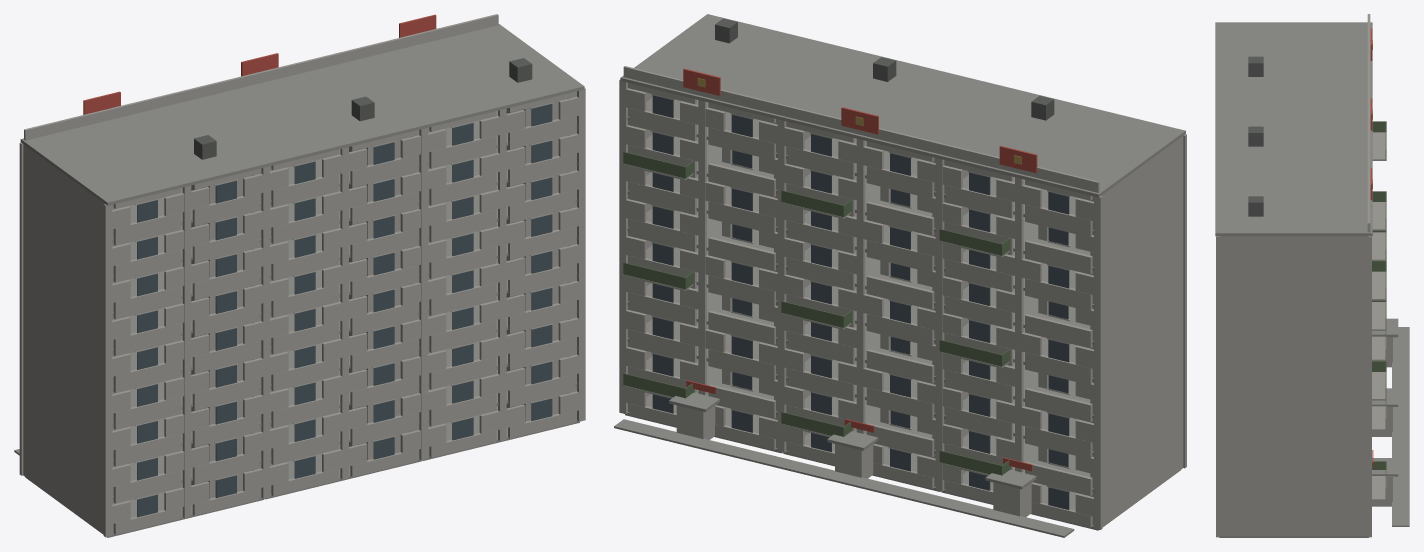
The model's file is b_brezh9.glb.
3 views of the same model, side by side, from view 1: azimuth 30°, elevation 25°; view 2: azimuth 150°, elevation 25°; view 3: azimuth 270°, elevation 25° (orthographic). The views are drawn at different scales.
Parts seen in each view (by area): view 1: roof_s0, roof_s2, roof_s1, wall_s0_f3_r0, wall_s0_f1_r0, wall_s0_f2_r0, wall_s0_f7_r0, wall_s0_f4_r0, wall_s0_f6_r0, wall_s0_f0_r0, wall_s0_f5_r0, wall_s0_f8_r0 (+59 smaller); view 2: roof_s0, roof_s2, roof_s1, details, wall_s0_f4_l1, wall_s0_f7_l1, wall_s1_f7_l1, wall_s1_f4_l1, wall_s2_f7_l1, wall_s2_f4_l1, wall_s0_f1_l1, wall_s2_f1_l1 (+68 smaller); view 3: roof_s2, roof_s0, roof_s1, details, wall_s2_f2_e, wall_s2_f5_e, wall_s2_f7_e, wall_s2_f0_e, wall_s2_f1_e, wall_s2_f3_e, wall_s2_f4_e, wall_s2_f6_e (+11 smaller).
Boxes of the visible parts, bbox=[...] form: roof_s0: bbox=[20, 91, 268, 205]; roof_s2: bbox=[339, 14, 584, 127]; roof_s1: bbox=[182, 52, 426, 167]; wall_s0_f3_r0: bbox=[103, 369, 191, 426]; wall_s0_f1_r0: bbox=[103, 443, 191, 500]; wall_s0_f2_r0: bbox=[103, 406, 191, 463]; wall_s0_f7_r0: bbox=[103, 222, 191, 279]; wall_s0_f4_r0: bbox=[103, 332, 191, 389]; wall_s0_f6_r0: bbox=[103, 259, 191, 316]; wall_s0_f0_r0: bbox=[103, 480, 191, 537]; wall_s0_f5_r0: bbox=[103, 295, 191, 352]; wall_s0_f8_r0: bbox=[103, 185, 191, 242]; roof_s0: bbox=[937, 91, 1185, 197]; roof_s2: bbox=[620, 14, 867, 119]; roof_s1: bbox=[778, 52, 1024, 157]; details: bbox=[614, 68, 1074, 537]; wall_s0_f4_l1: bbox=[935, 305, 1014, 368]; wall_s0_f7_l1: bbox=[935, 194, 1014, 257]; wall_s1_f7_l1: bbox=[777, 156, 856, 218]; wall_s1_f4_l1: bbox=[777, 266, 856, 329]; wall_s2_f7_l1: bbox=[619, 117, 698, 180]; wall_s2_f4_l1: bbox=[619, 228, 698, 291]; wall_s0_f1_l1: bbox=[935, 416, 1014, 475]; wall_s2_f1_l1: bbox=[619, 339, 698, 398]; roof_s2: bbox=[1215, 153, 1372, 236]; roof_s0: bbox=[1215, 14, 1372, 93]; roof_s1: bbox=[1215, 83, 1372, 163]; details: bbox=[1370, 28, 1409, 526]; wall_s2_f2_e: bbox=[1219, 436, 1368, 469]; wall_s2_f5_e: bbox=[1219, 336, 1368, 369]; wall_s2_f7_e: bbox=[1219, 269, 1368, 302]; wall_s2_f0_e: bbox=[1219, 503, 1368, 536]; wall_s2_f1_e: bbox=[1219, 469, 1368, 502]; wall_s2_f3_e: bbox=[1219, 403, 1368, 436]; wall_s2_f4_e: bbox=[1219, 369, 1368, 402]; wall_s2_f6_e: bbox=[1219, 303, 1368, 336].
Size of the model in its own units: 39.55 by 28.42 by 15.3.
